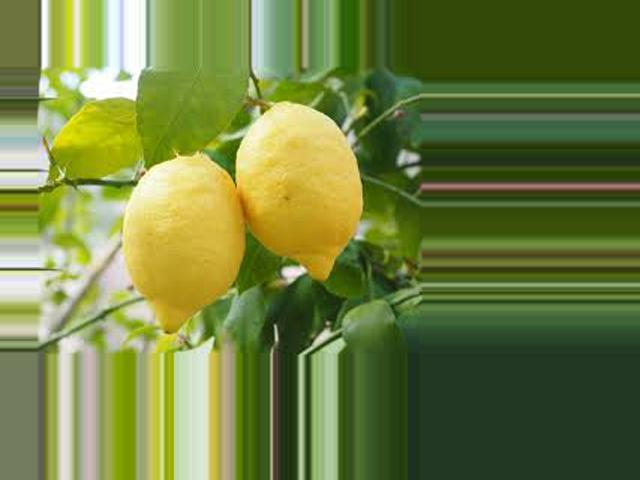lemon: (109, 141, 252, 328)
